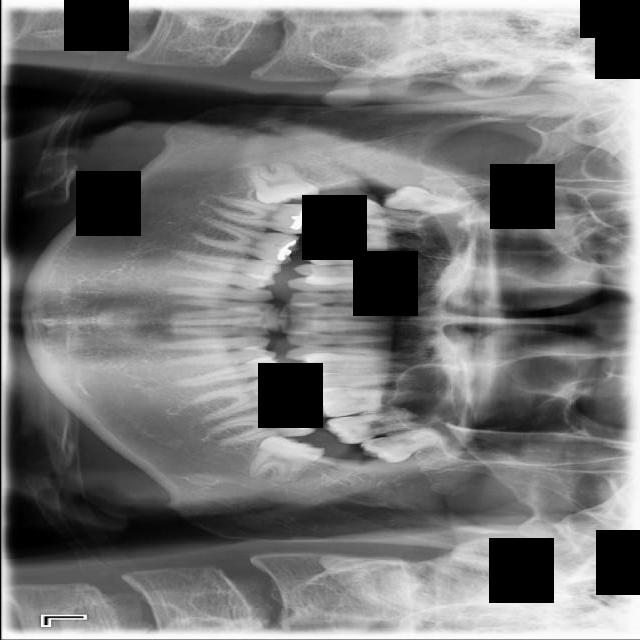3M ESPE Implant: (380, 184, 491, 216)
52: (268, 195, 319, 242), (269, 396, 316, 445), (250, 226, 301, 269), (310, 219, 364, 254), (344, 427, 358, 435), (271, 244, 281, 247)
73: (64, 608, 70, 610)
BioHorizons Implant: (320, 402, 450, 448)
BioLife Implant: (357, 418, 468, 469)
Biomet 3i Implant: (245, 426, 326, 499)
Blue Sky Bio Implant: (204, 400, 316, 448)
Caries: (328, 194, 456, 237)
Implant: (212, 195, 317, 237)
Keystone Dental Implant: (246, 154, 320, 210)
